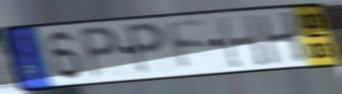6: (45, 28, 88, 82)
F: (163, 18, 212, 74)
H: (254, 9, 310, 66), (214, 13, 269, 70)
P: (77, 24, 123, 82), (123, 21, 169, 78)
